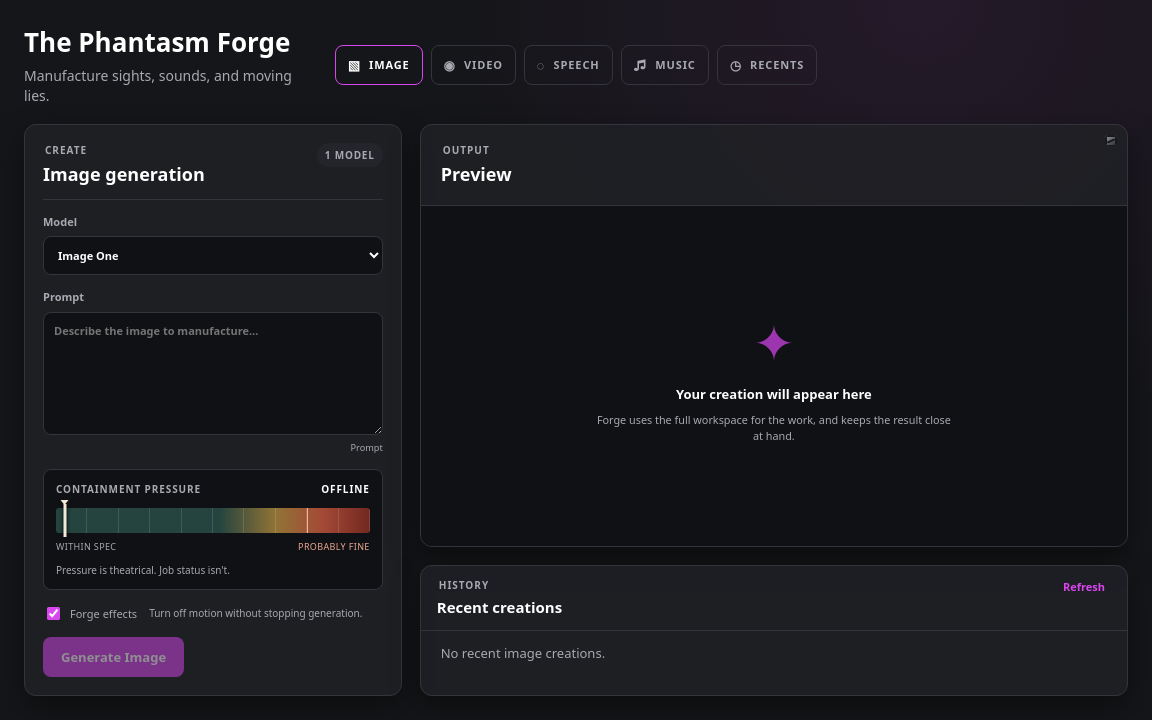
Test: Forge workspace › shows an empty recents state
Check: the button "Refresh" is enabled, box [1057, 578, 1111, 595]
Step 1. Click the tab "◷ Recents" → (767, 65), box [717, 45, 817, 85]
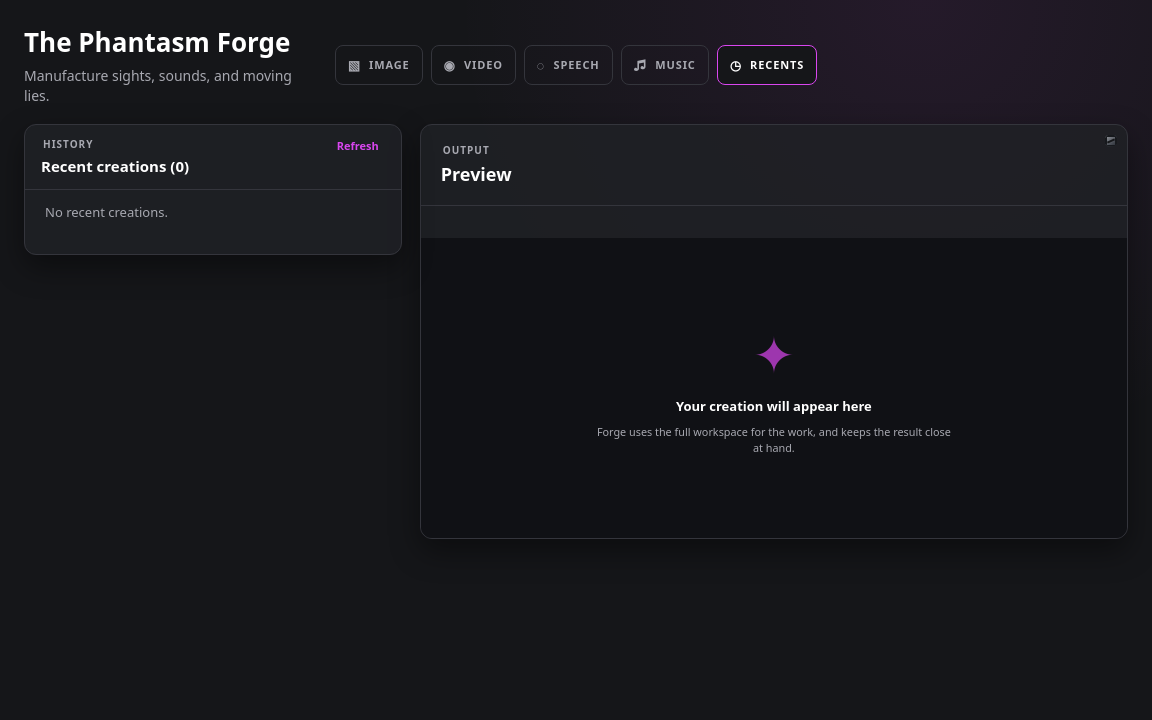
Check: the text "No recent creations." is shown, box [45, 203, 168, 221]
